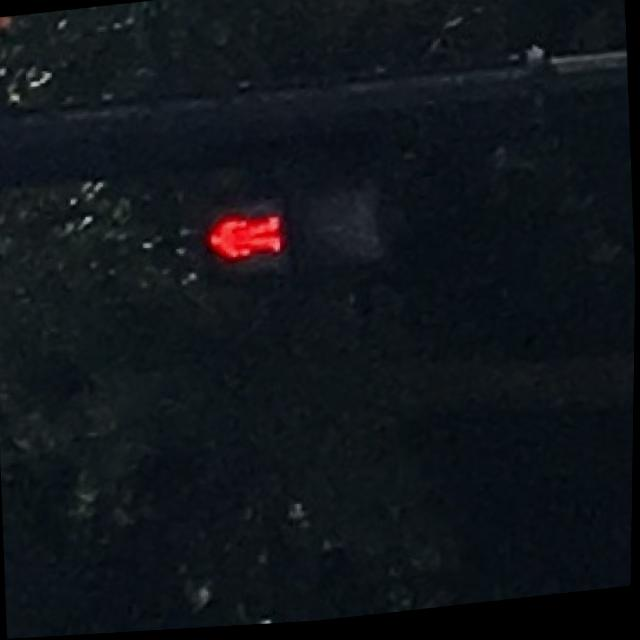red_light: (203, 197, 286, 283)
